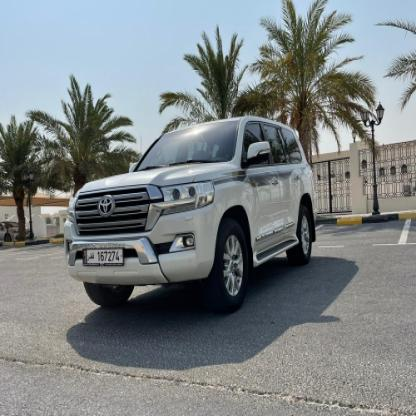np: (80, 248, 126, 269)
